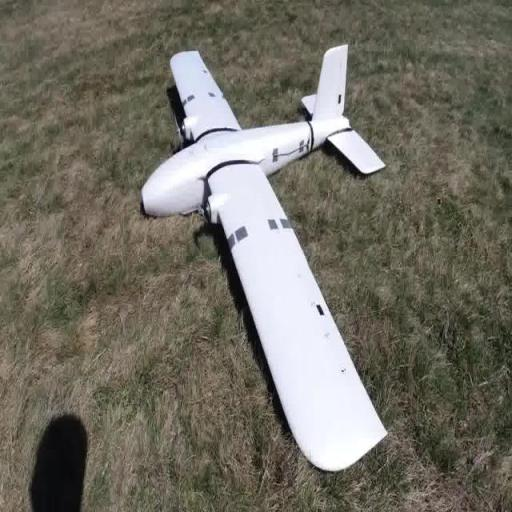uav: (136, 35, 402, 475)
